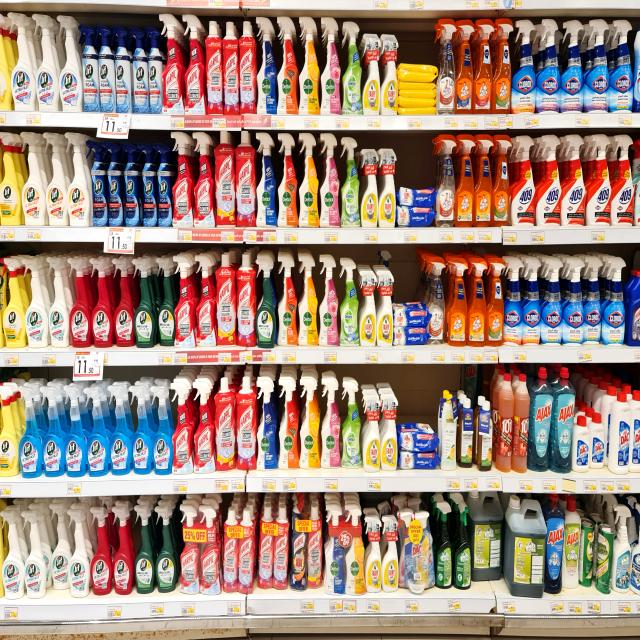MIS: (256, 249, 280, 345)
Product: (507, 494, 547, 598), (178, 504, 223, 595), (325, 501, 367, 596), (469, 493, 509, 591), (290, 496, 324, 597), (397, 508, 436, 590), (258, 501, 291, 593), (222, 505, 255, 596), (8, 11, 37, 111), (32, 9, 60, 111), (158, 12, 186, 114), (39, 384, 67, 479), (17, 383, 45, 478), (41, 130, 68, 227), (276, 18, 302, 116), (191, 131, 217, 229), (0, 255, 27, 349), (58, 12, 83, 112), (20, 130, 46, 226), (170, 380, 196, 475), (84, 385, 111, 476), (170, 131, 195, 229), (182, 12, 206, 114), (65, 132, 91, 226), (172, 253, 198, 347), (106, 384, 133, 474), (46, 252, 71, 349), (296, 250, 321, 347), (22, 255, 48, 348), (551, 366, 574, 470), (586, 132, 611, 227), (192, 379, 217, 474), (63, 383, 88, 478), (20, 508, 46, 599), (1, 509, 27, 599), (153, 504, 179, 594), (398, 59, 439, 116), (529, 366, 551, 472), (561, 133, 586, 226), (512, 135, 538, 224), (194, 252, 218, 348), (256, 13, 279, 113), (149, 385, 174, 476), (512, 17, 536, 111), (536, 18, 560, 112), (235, 250, 258, 348), (611, 132, 635, 225), (112, 254, 136, 347), (541, 256, 566, 345), (320, 15, 342, 116), (586, 19, 610, 111), (538, 134, 562, 226), (276, 131, 299, 227), (320, 377, 343, 473), (276, 376, 300, 468), (563, 255, 587, 346), (48, 501, 72, 592), (66, 507, 90, 598), (300, 16, 322, 115), (215, 252, 238, 346), (129, 384, 153, 474), (433, 18, 455, 116), (89, 507, 113, 596), (455, 15, 476, 116), (133, 254, 156, 346), (152, 255, 175, 347), (256, 377, 279, 469), (396, 422, 441, 469), (475, 17, 496, 117), (298, 131, 320, 226), (255, 132, 277, 227), (235, 131, 257, 226), (236, 376, 258, 471), (584, 255, 607, 345), (562, 18, 584, 112), (454, 131, 476, 225), (214, 132, 236, 226), (0, 131, 22, 225), (277, 250, 299, 344), (298, 377, 320, 471), (71, 255, 93, 348), (318, 254, 340, 347), (342, 378, 364, 471), (86, 138, 109, 226), (214, 378, 236, 470), (111, 507, 134, 595), (493, 17, 514, 113), (320, 131, 341, 227), (610, 18, 632, 109), (338, 255, 360, 346), (425, 254, 447, 344), (604, 255, 626, 345), (342, 17, 362, 115), (134, 505, 156, 594), (91, 255, 112, 348), (120, 140, 142, 228), (102, 139, 124, 227), (238, 18, 258, 114), (436, 132, 456, 228), (340, 135, 361, 226), (79, 23, 100, 112), (522, 255, 543, 344), (0, 384, 20, 477), (396, 185, 439, 228), (129, 25, 150, 113), (493, 133, 513, 225), (512, 372, 530, 474), (448, 255, 468, 346), (467, 255, 487, 346), (502, 256, 522, 346), (474, 132, 493, 226), (137, 141, 158, 226), (546, 495, 564, 594), (97, 24, 117, 113), (438, 392, 461, 469), (612, 502, 631, 594), (205, 20, 223, 116), (563, 494, 581, 589), (434, 500, 453, 589), (362, 32, 382, 116), (359, 146, 380, 226), (608, 390, 628, 473), (486, 256, 504, 346), (381, 31, 400, 116), (154, 141, 173, 226), (374, 270, 394, 350), (496, 372, 512, 472), (393, 304, 432, 345), (115, 24, 133, 112), (146, 24, 164, 112), (362, 394, 382, 472), (378, 146, 397, 227), (454, 499, 471, 589), (222, 20, 238, 114), (364, 514, 383, 592), (358, 268, 376, 348), (580, 522, 600, 594), (381, 513, 399, 592), (379, 392, 397, 470), (460, 401, 478, 474), (596, 522, 614, 594), (0, 11, 13, 110), (626, 389, 640, 475), (572, 413, 592, 472), (476, 401, 492, 471), (629, 500, 640, 595), (627, 270, 640, 345), (590, 410, 605, 474), (632, 24, 640, 109)
